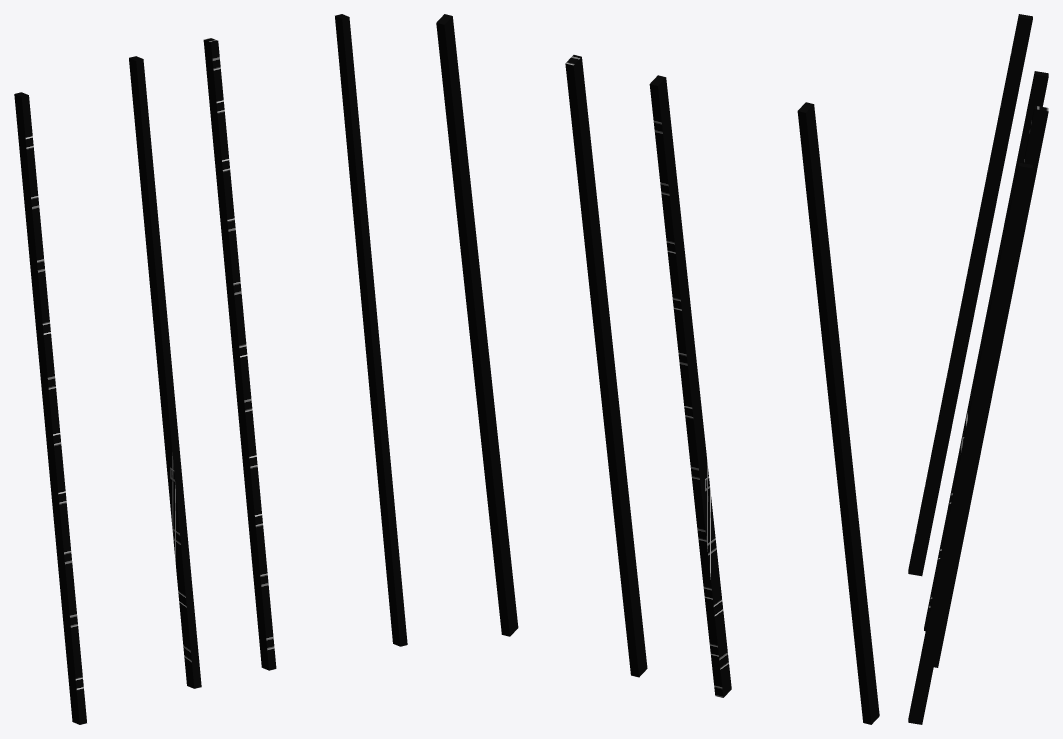
The model's file is hasigo-tate.obj.
3 renders of one model, left to right at view 1: azimuth 30°, elevation 25°; view 2: azimuth 150°, elevation 25°; view 3: azimuth 270°, elevation 25°, orthographic. The views are drawn at different scales.
Bounding box in the file's own units: 8.19 × 14.04 × 3.2.
Materials: 1 (1 with a texture image).
